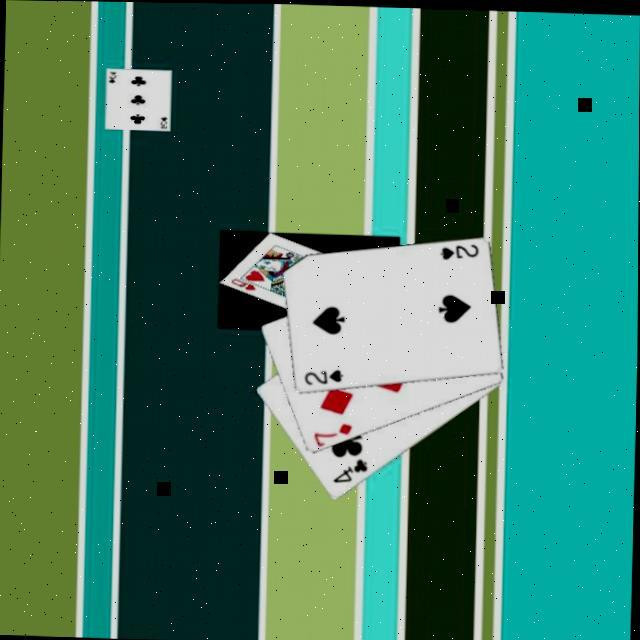2S: (300, 362, 344, 387), (436, 238, 480, 262)
4C: (330, 452, 370, 485)
7D: (309, 417, 354, 447)
